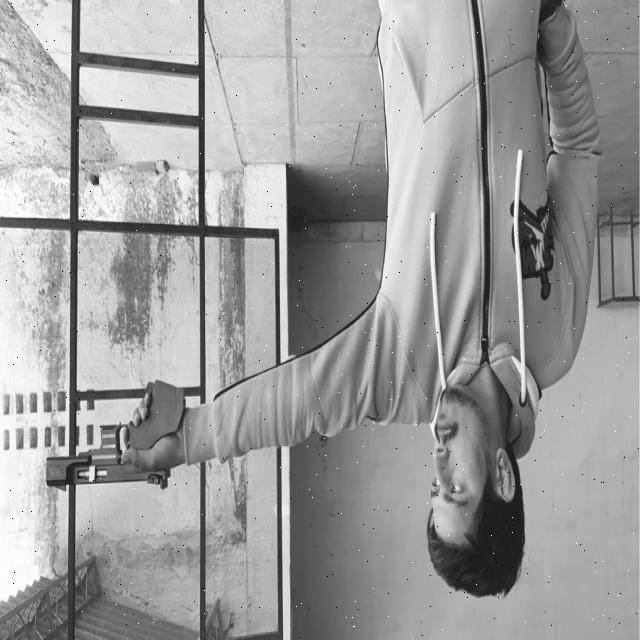gun: (36, 370, 196, 510)
